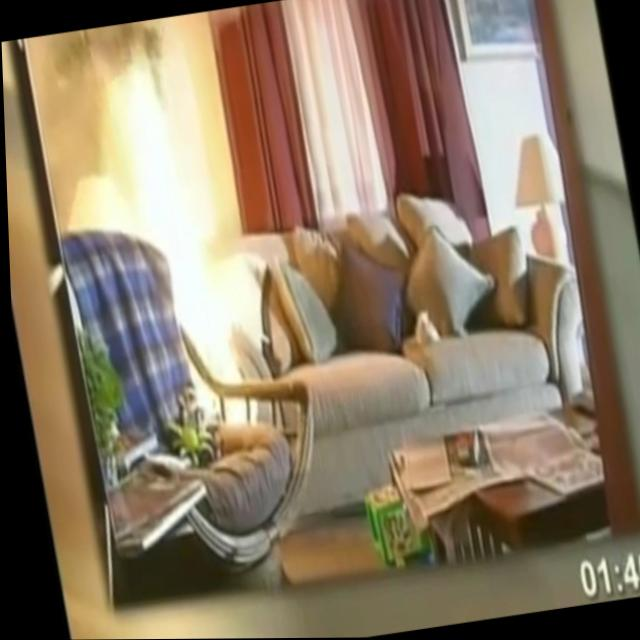fire: (75, 21, 251, 441)
